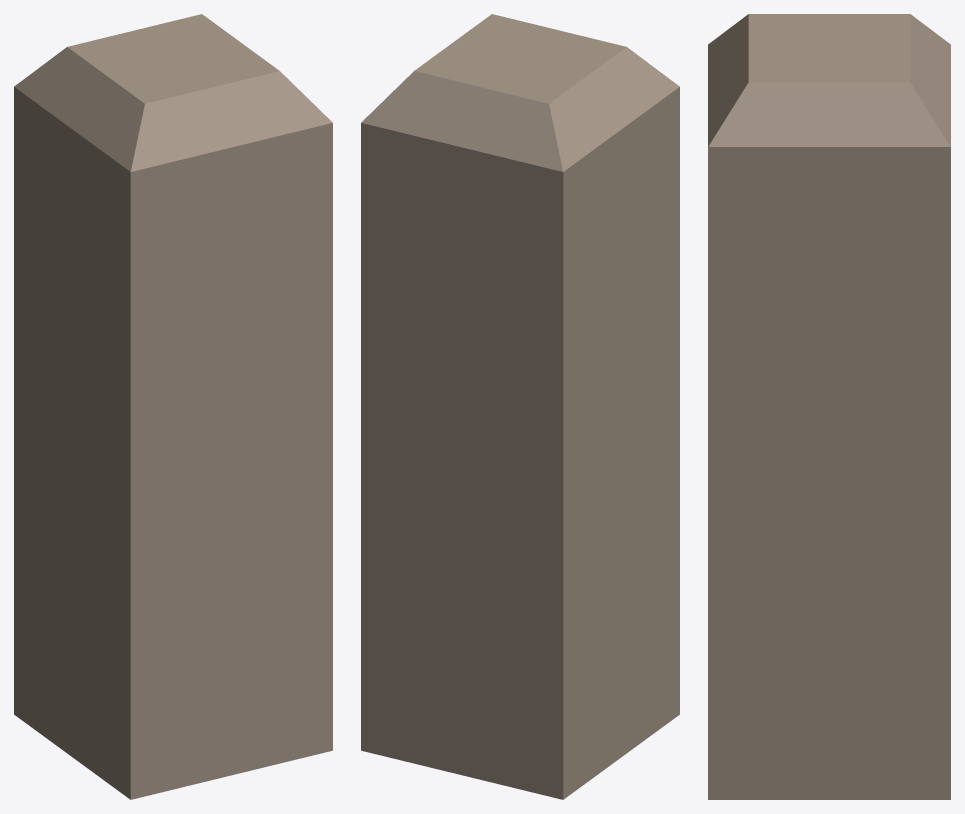
The model's file is Wood_Post_Small.glb.
3 renders of one model, left to right at view 1: azimuth 30°, elevation 25°; view 2: azimuth 150°, elevation 25°; view 3: azimuth 270°, elevation 25°, orthographic. The views are drawn at different scales.
Visible parts, largest first — view 1: object1; view 2: object1; view 3: object1.
Boxes of the visible parts, x1,y1,x2,y2 form: object1: (14, 14, 332, 799); object1: (361, 14, 679, 799); object1: (708, 14, 950, 799).
Size of the model in its own units: 0.1732 by 0.5516 by 0.1732.
